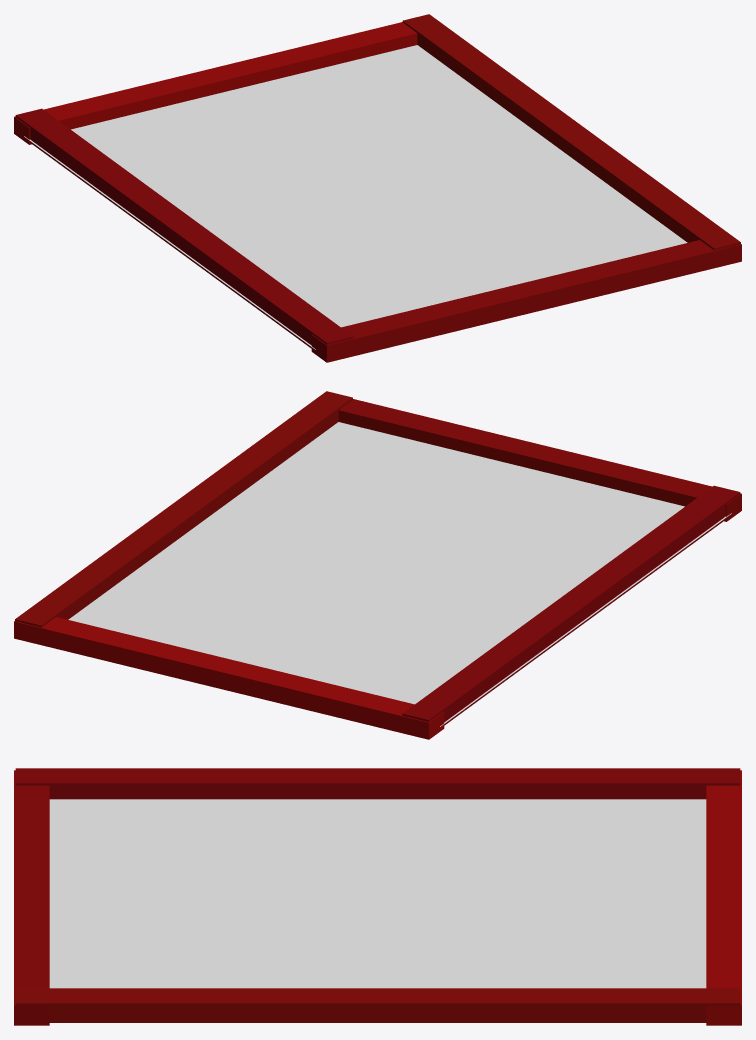
The model's file is picture 6.fbx.
The picture shows the model from 3 angles, top to bottom: view 1: azimuth 30°, elevation 25°; view 2: azimuth 150°, elevation 25°; view 3: azimuth 270°, elevation 25°; orthographic projection. The views are drawn at different scales.
Parts seen in each view (by area): view 1: 平面, 立方体.003, 立方体.001, 立方体, 立方体.002; view 2: 平面, 立方体.002, 立方体.001, 立方体, 立方体.003; view 3: 平面, 立方体, 立方体.001, 立方体.002, 立方体.003.
Boxes of the visible parts, x1,y1,x2,y2 form: 平面: (24, 45, 687, 349); 立方体.003: (311, 240, 741, 362); 立方体.001: (15, 108, 353, 348); 立方体: (402, 14, 740, 250); 立方体.002: (14, 22, 417, 144); 平面: (68, 422, 731, 726); 立方体.002: (14, 617, 444, 739); 立方体.001: (402, 485, 740, 725); 立方体: (15, 391, 352, 627); 立方体.003: (338, 399, 741, 521); 平面: (49, 799, 706, 988); 立方体: (15, 988, 740, 1022); 立方体.001: (15, 768, 740, 799); 立方体.002: (706, 770, 741, 1025); 立方体.003: (14, 770, 49, 1025).
Bounding box in the file's own units: 231 × 10.1 × 301.
